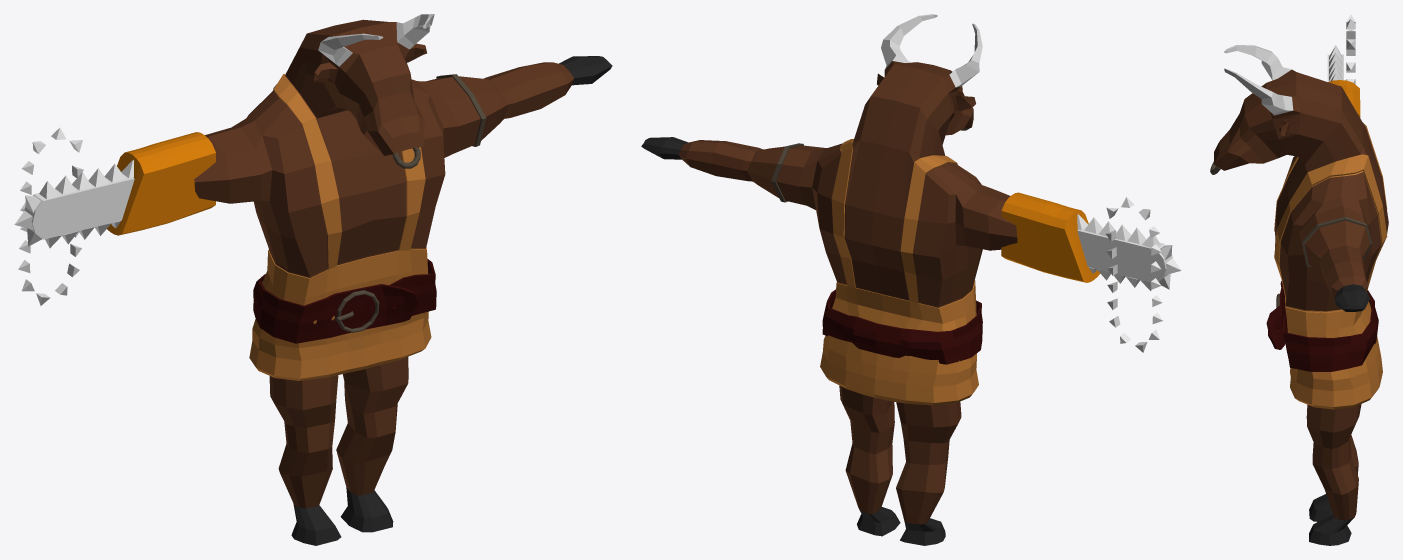
The model's file is minotaure_tronconneuse.fbx.
3 renders of one model, left to right at view 1: azimuth 30°, elevation 25°; view 2: azimuth 150°, elevation 25°; view 3: azimuth 270°, elevation 25°, orthographic. The views are drawn at different scales.
Parts seen in each view (by area): view 1: Torus.003, Cube, Cylinder, Cube.002, Cube.001; view 2: Torus.003, Cube, Cylinder, Cube.002, Cube.001; view 3: Torus.003, Cube.001, Cube, Cube.002.
Boxes of the visible parts, <box> form: Torus.003: <box>194,14,612,545</box>; Cube: <box>107,132,215,235</box>; Cylinder: <box>24,174,134,239</box>; Cube.002: <box>14,160,133,248</box>; Cube.001: <box>18,128,83,305</box>; Torus.003: <box>641,14,1017,545</box>; Cube: <box>1001,192,1100,282</box>; Cylinder: <box>1077,226,1172,282</box>; Cube.002: <box>1077,214,1181,290</box>; Cube.001: <box>1106,197,1162,352</box>; Torus.003: <box>1210,45,1388,545</box>; Cube.001: <box>1346,14,1355,84</box>; Cube: <box>1328,80,1360,117</box>; Cube.002: <box>1329,44,1342,81</box>.
Bounding box in the file's own units: 779 × 668 × 232.
